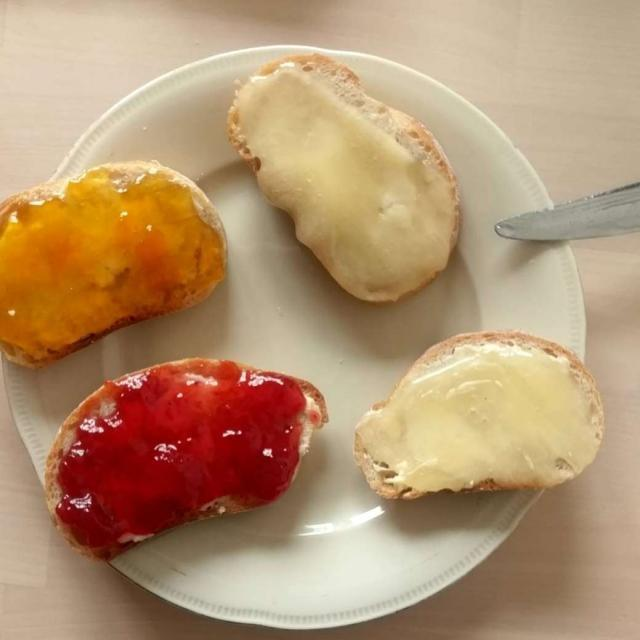bread: (17, 66, 612, 558)
butter: (247, 77, 588, 517)
honey: (262, 82, 607, 491)
